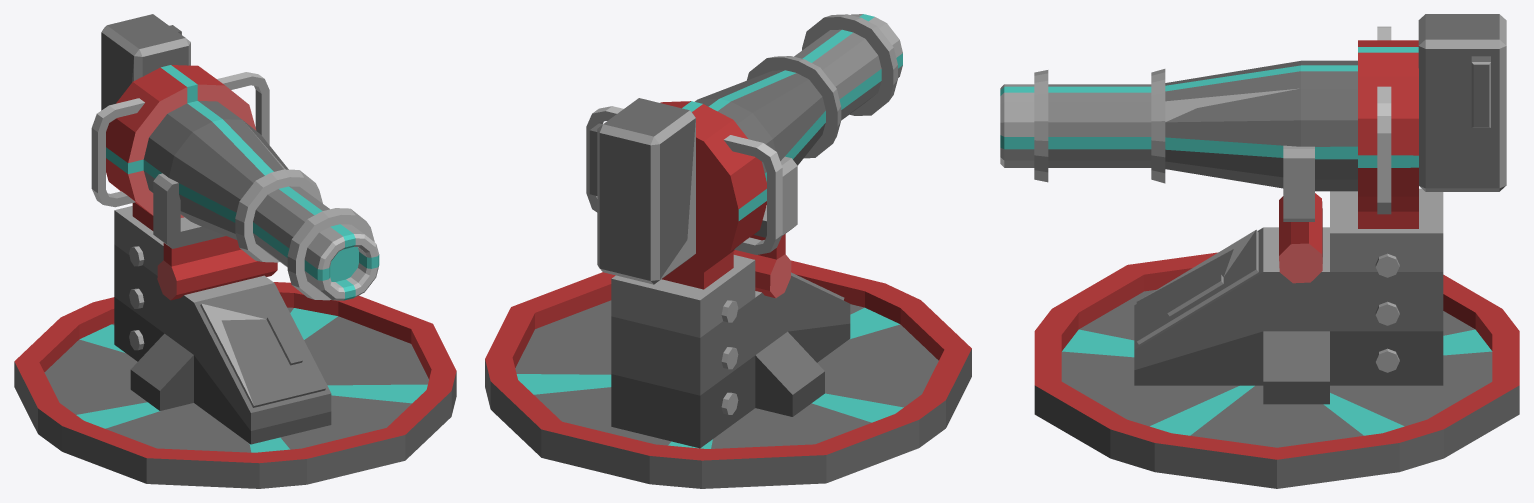
The model's file is tower_laser_red_1.fbx.
3 renders of one model, left to right at view 1: azimuth 30°, elevation 25°; view 2: azimuth 150°, elevation 25°; view 3: azimuth 270°, elevation 25°, orthographic. The views are drawn at different scales.
Visible parts, largest first — view 1: top_laser_red_1, tower_laser_red_1; view 2: top_laser_red_1, tower_laser_red_1; view 3: top_laser_red_1, tower_laser_red_1.
Part boxes in pixels (x1,y1,x2,y2): top_laser_red_1: [91, 14, 379, 444]; tower_laser_red_1: [14, 282, 456, 488]; top_laser_red_1: [586, 14, 902, 448]; tower_laser_red_1: [485, 260, 971, 488]; top_laser_red_1: [1000, 14, 1506, 404]; tower_laser_red_1: [1034, 252, 1519, 488].
Bounding box in the file's own units: 142 × 110 × 148.
